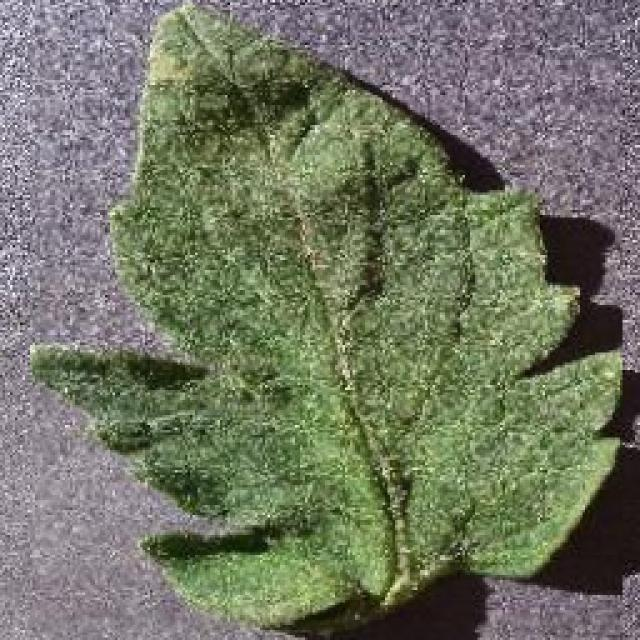Healthy: (30, 2, 622, 640)
